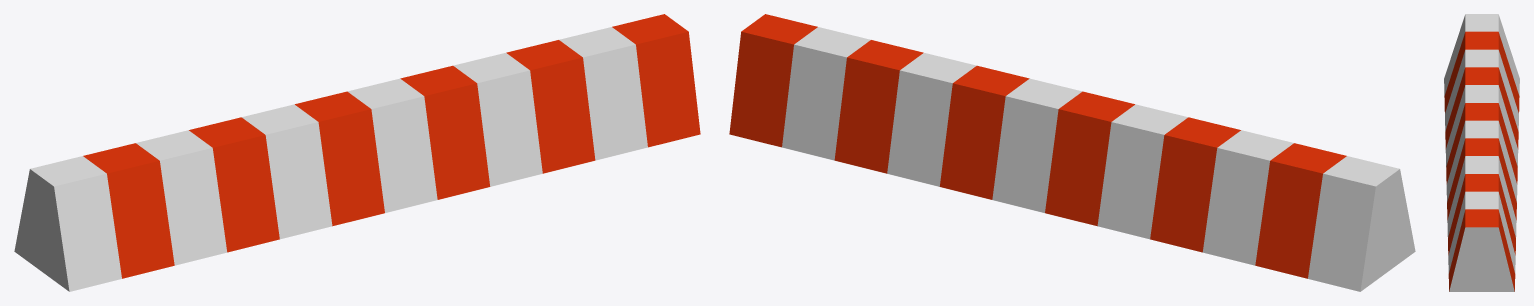
The model's file is bariyer.fbx.
3 renders of one model, left to right at view 1: azimuth 30°, elevation 25°; view 2: azimuth 150°, elevation 25°; view 3: azimuth 270°, elevation 25°, orthographic. The views are drawn at different scales.
Visible parts, largest first — view 1: Cube.003; view 2: Cube.003; view 3: Cube.003.
Part boxes in pixels (<box>): Cube.003: <box>14,14,700,291</box>; Cube.003: <box>729,14,1415,291</box>; Cube.003: <box>1444,14,1519,291</box>.
Size of the model in its own units: 6.98 by 0.9881 by 1.05.
